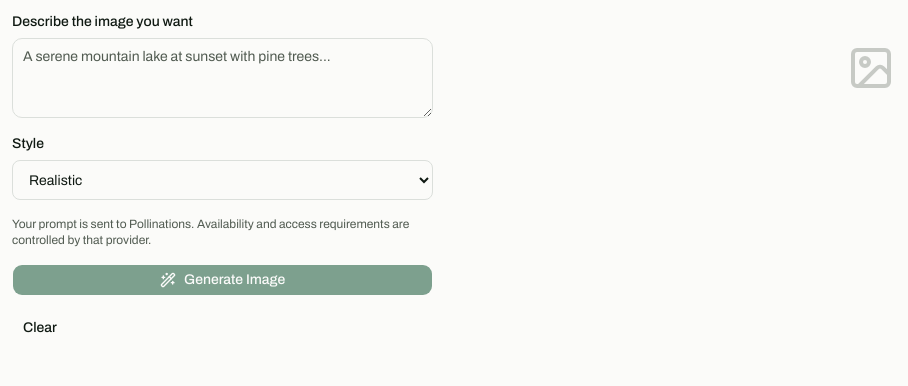
Test: image provider failures › rejects non-image responses without manufacturing a fallback image
Type "A mountain lake" into the text box labelled "Describe the image you want" at (223, 78), box [12, 38, 433, 118]
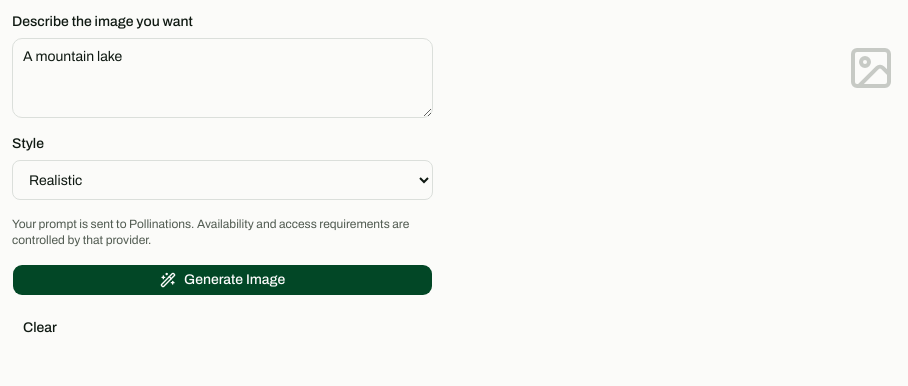
Click the button "Generate Image" at (223, 280), box [12, 264, 433, 296]
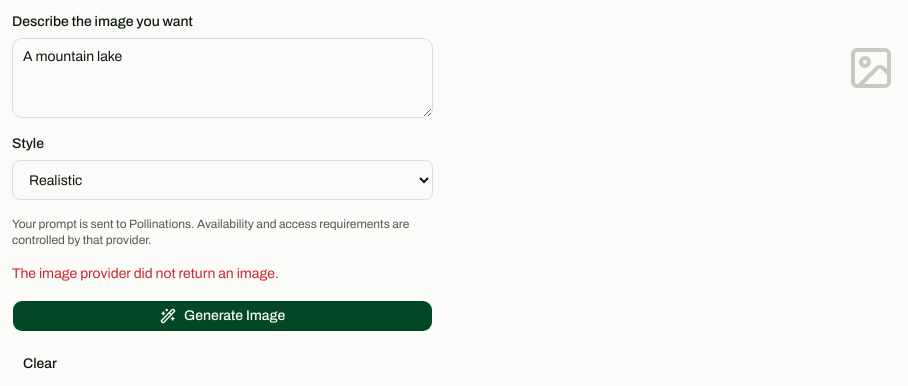
Check: the message shows "did not return an image", box [12, 266, 279, 281]
